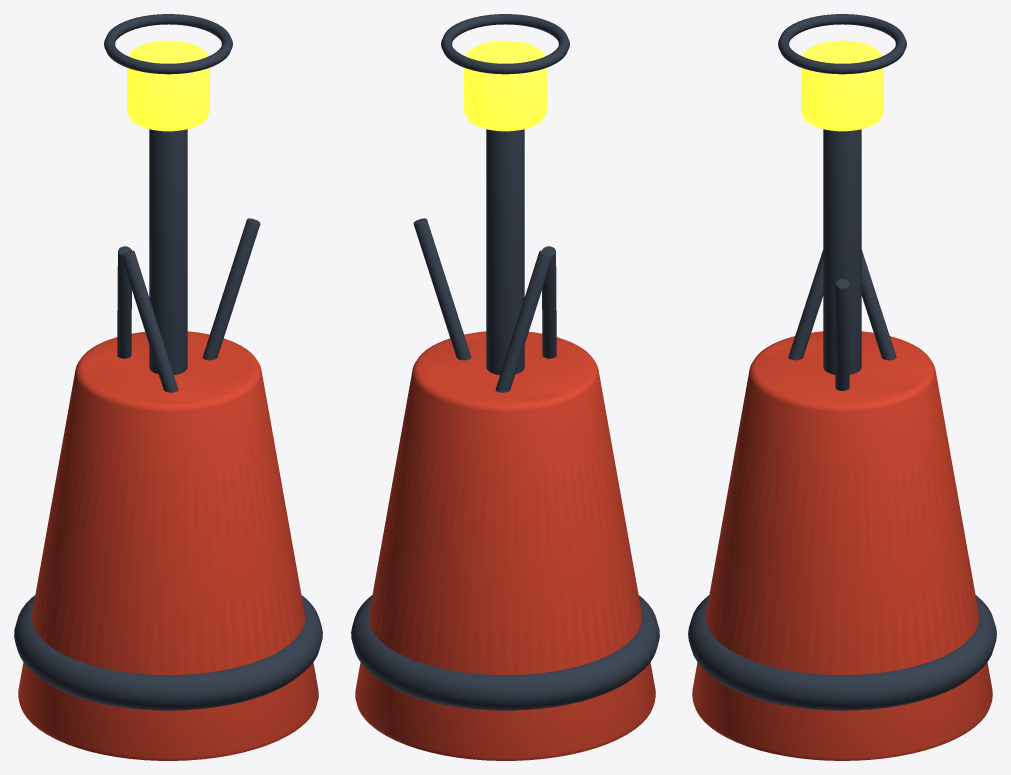
Rendered from buoy.glb.
3 views of the same model, side by side, from view 1: azimuth 30°, elevation 25°; view 2: azimuth 150°, elevation 25°; view 3: azimuth 270°, elevation 25° (orthographic).
Visible parts, largest first — view 1: ASSET_buoy; view 2: ASSET_buoy; view 3: ASSET_buoy.
Boxes of the visible parts, bbox=[...] form: ASSET_buoy: bbox=[14, 14, 322, 760]; ASSET_buoy: bbox=[351, 14, 659, 760]; ASSET_buoy: bbox=[688, 14, 996, 760].
Size of the model in its own units: 1.94 by 4.58 by 1.94.
